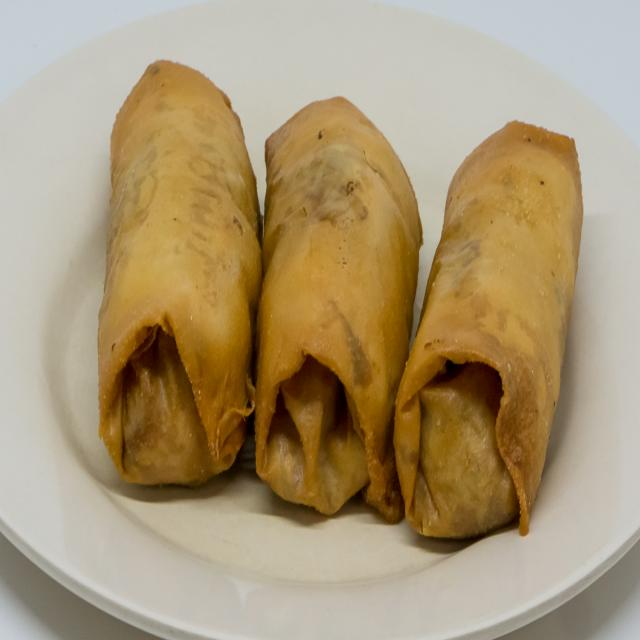Lumpia-Semarang: (81, 28, 608, 572)
